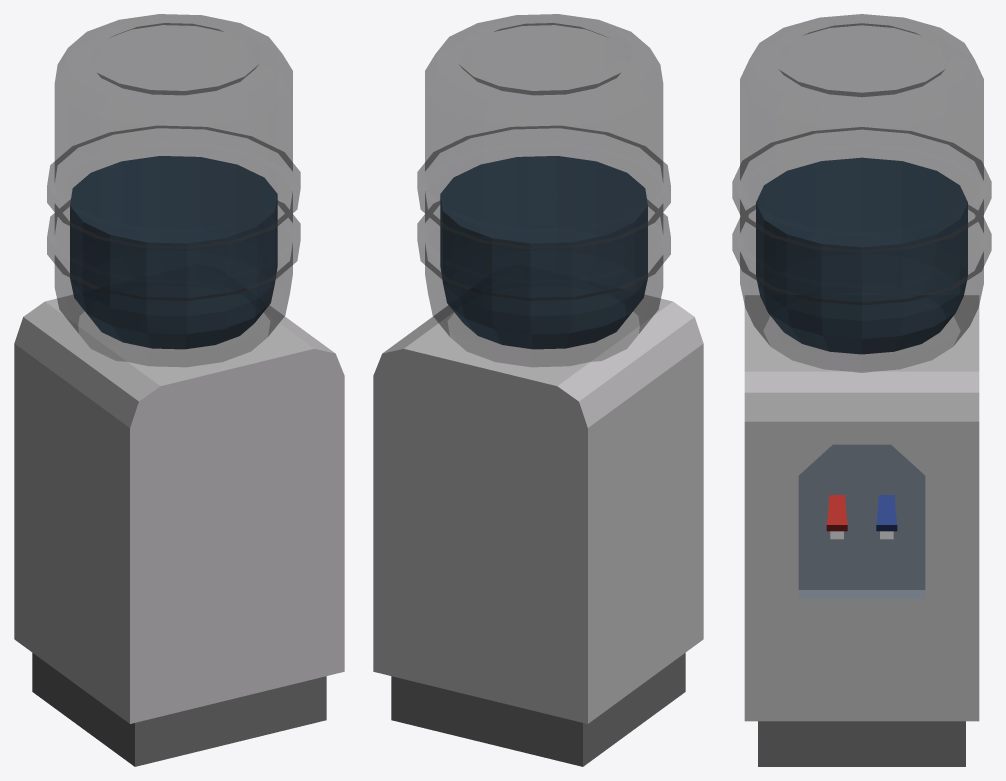
File: SM_WaterDispenser_01.glb
The picture shows the model from 3 angles, left to right: view 1: azimuth 30°, elevation 25°; view 2: azimuth 150°, elevation 25°; view 3: azimuth 270°, elevation 25°; orthographic projection.
Visible parts, largest first — view 1: SM_WaterDispenser_01; view 2: SM_WaterDispenser_01; view 3: SM_WaterDispenser_01.
Boxes of the visible parts, bbox=[...] form: SM_WaterDispenser_01: bbox=[14, 14, 344, 766]; SM_WaterDispenser_01: bbox=[373, 14, 703, 766]; SM_WaterDispenser_01: bbox=[732, 14, 991, 766].
Size of the model in its own units: 0.6555 by 1.73 by 0.6119.
3 materials, 1 textured.
